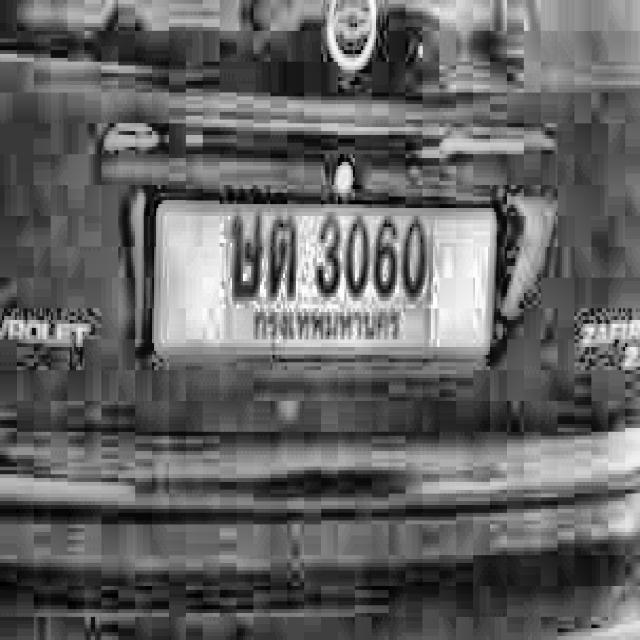license-plate: (128, 147, 507, 415)
